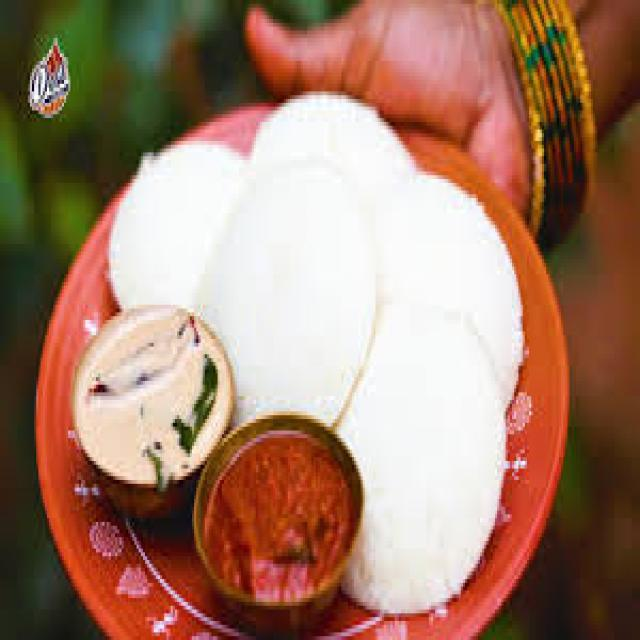IDLI: (111, 99, 523, 606), (339, 290, 503, 610), (203, 160, 373, 423), (109, 141, 243, 305)
